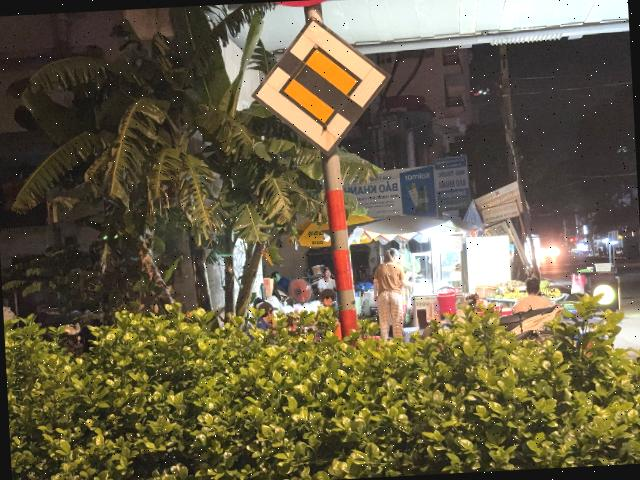het-duong-uu-tien: (247, 11, 396, 162)
